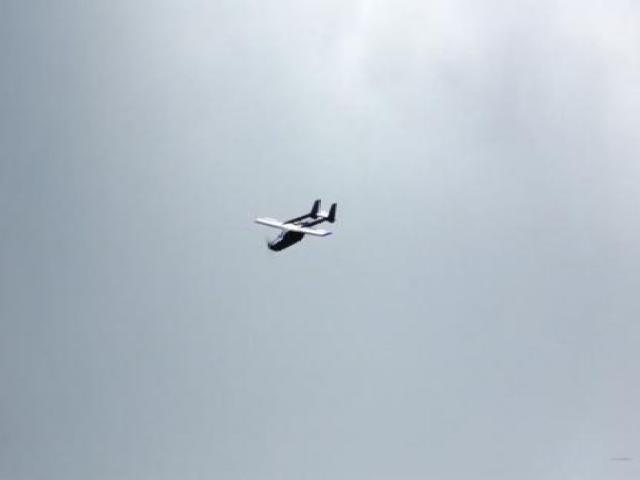uav: (252, 192, 338, 253)
